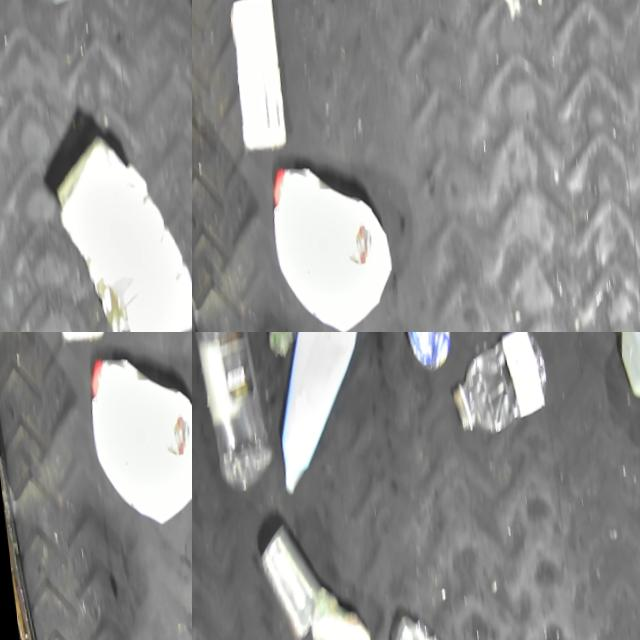can: (253, 518, 335, 640), (303, 578, 372, 640), (401, 332, 452, 374)
non_white_jug: (264, 156, 396, 332), (82, 347, 192, 532)
plastic_bottle: (192, 332, 277, 496), (443, 332, 552, 438)
